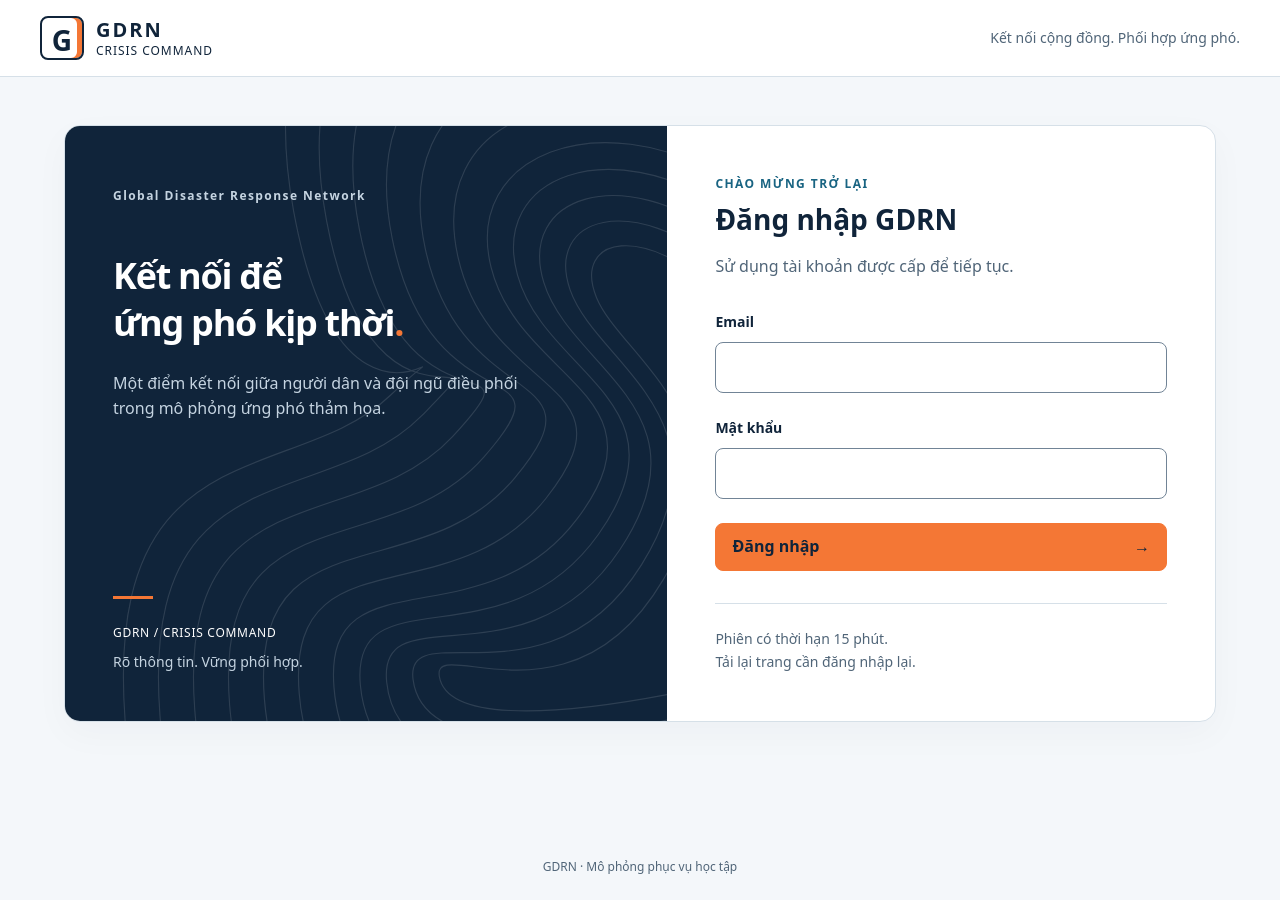
Test case: Login › does not establish a session when me fails
Type "one@example.test" into the field labelled "Email" at [941, 367], box [715,342,1167,393]
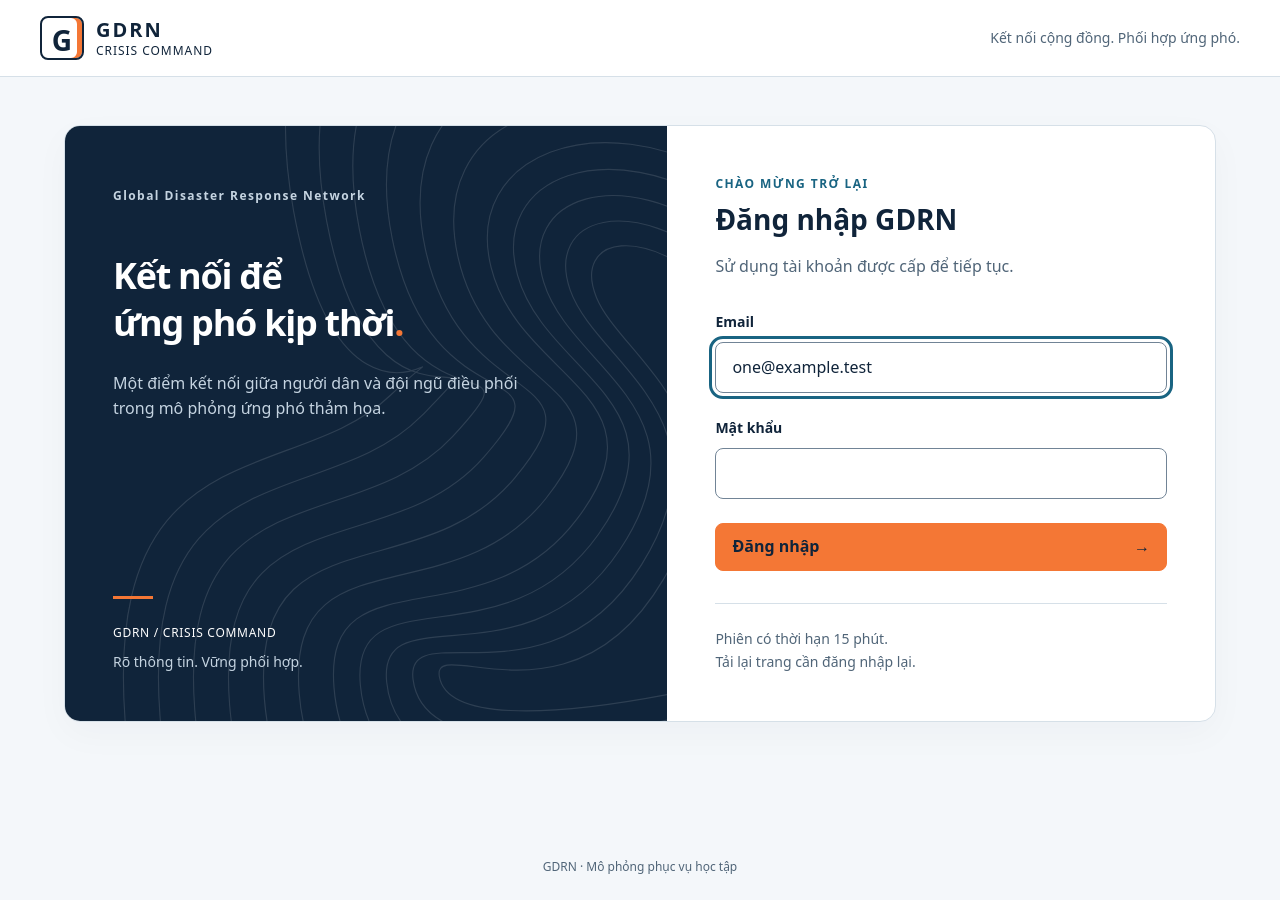
Type "test-only-password" into the password field labelled "Mật khẩu" at [941, 473], box [715,448,1167,499]
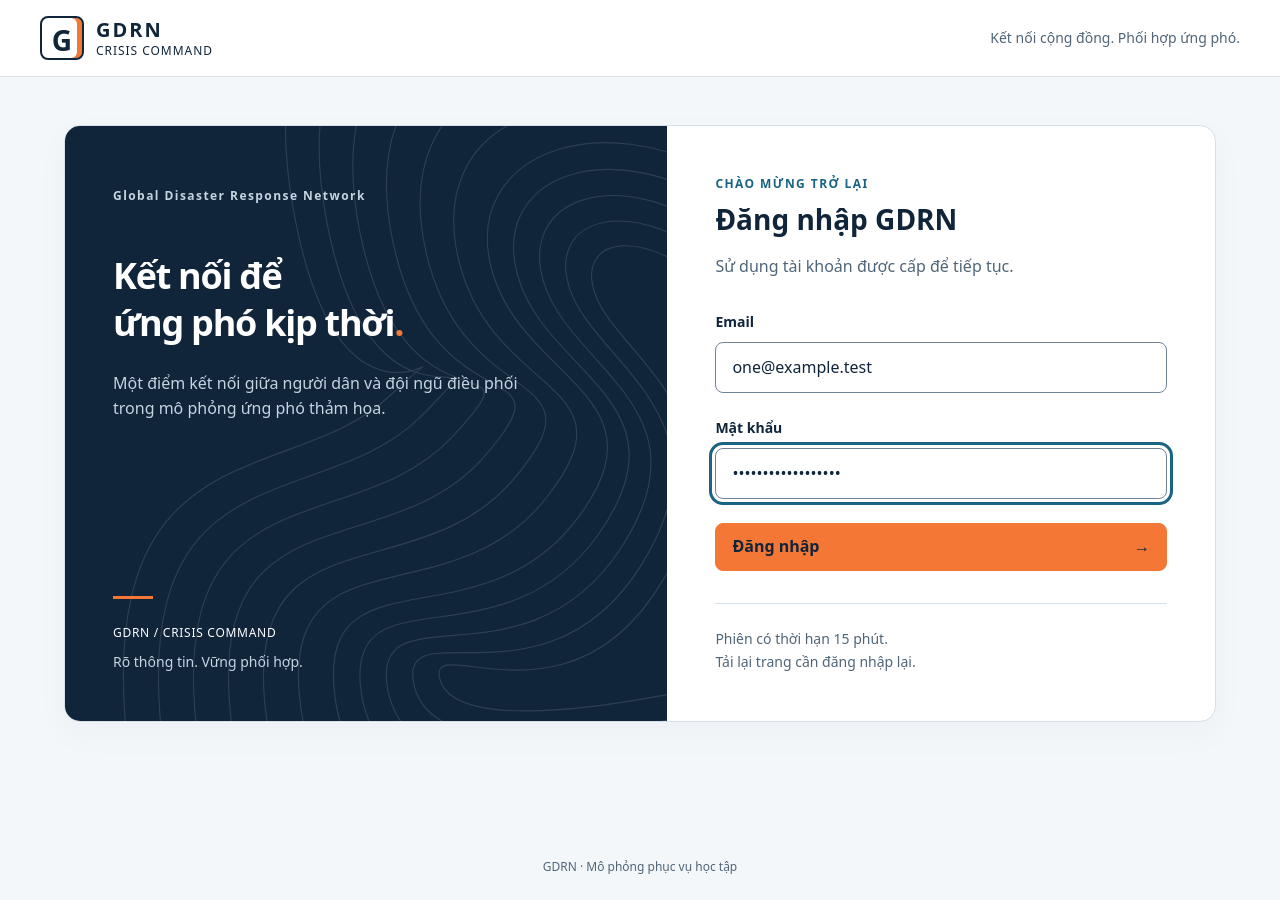
Click the button "Đăng nhập →" at [776, 546], box [715,523,1167,571]
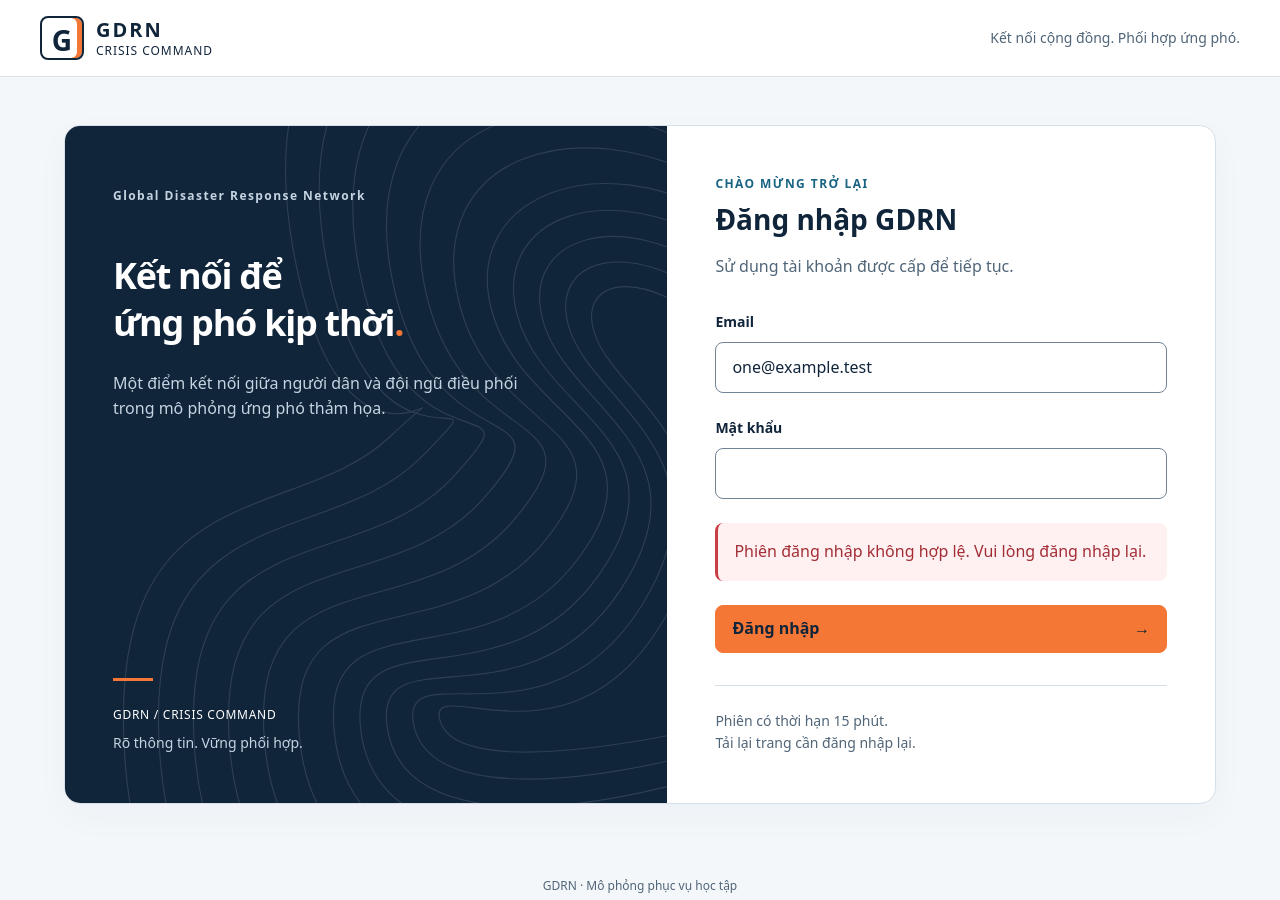
Check: the message "Phiên đăng nhập không hợp lệ. Vui lòng đăng nhập lại." is shown, box [715,523,1167,581]
